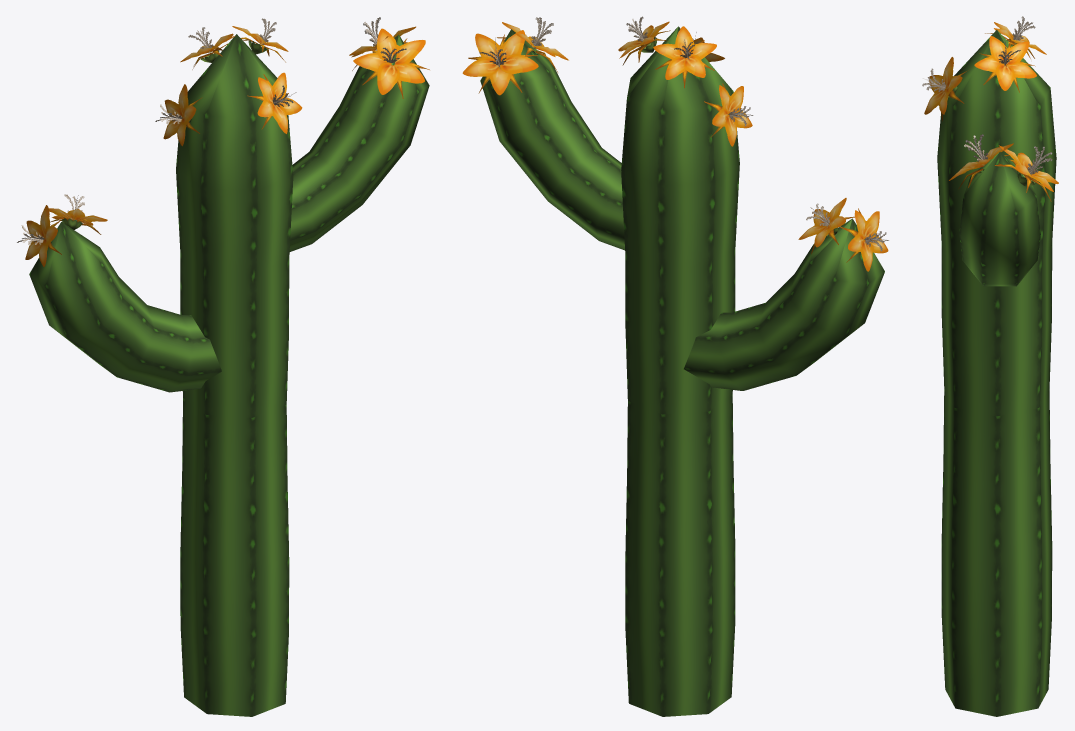
The model's file is Ctn_cactus_01_v03_flowers.FBX.
The picture shows the model from 3 angles, left to right: view 1: azimuth 30°, elevation 25°; view 2: azimuth 150°, elevation 25°; view 3: azimuth 270°, elevation 25°; orthographic projection.
Parts seen in each view (by area): view 1: Ctn_cactus_01_v03_flowers; view 2: Ctn_cactus_01_v03_flowers; view 3: Ctn_cactus_01_v03_flowers.
Part boxes in pixels (x1,y1,x2,y2): Ctn_cactus_01_v03_flowers: (17,17,429,716); Ctn_cactus_01_v03_flowers: (462,16,888,716); Ctn_cactus_01_v03_flowers: (922,16,1058,716).
Bounding box in the file's own units: 81.9 × 129 × 24.42.
